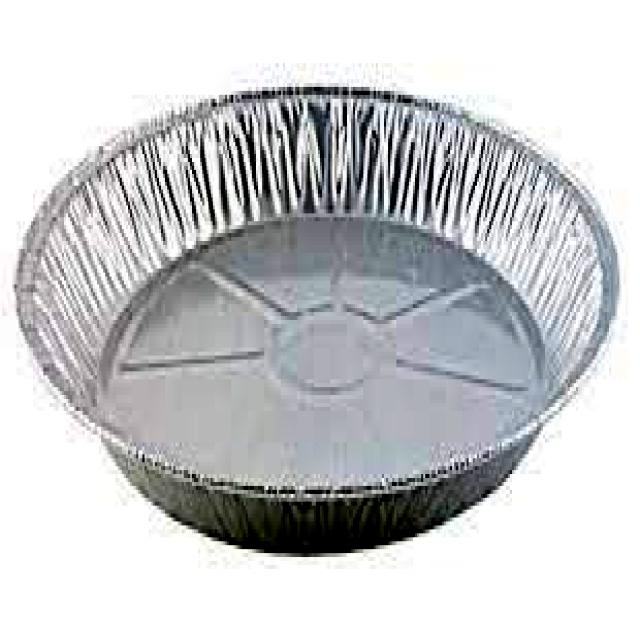Trash: (12, 72, 626, 565)
